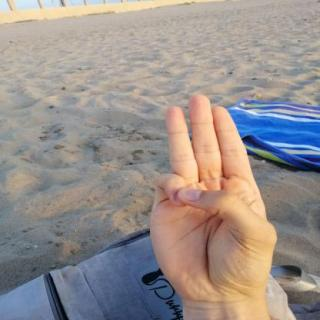THA: (136, 86, 288, 311)
